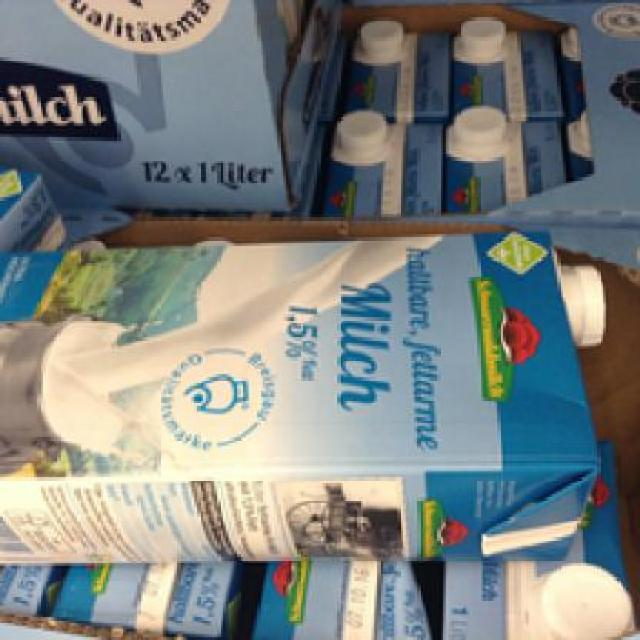Milk: (0, 242, 617, 568)
